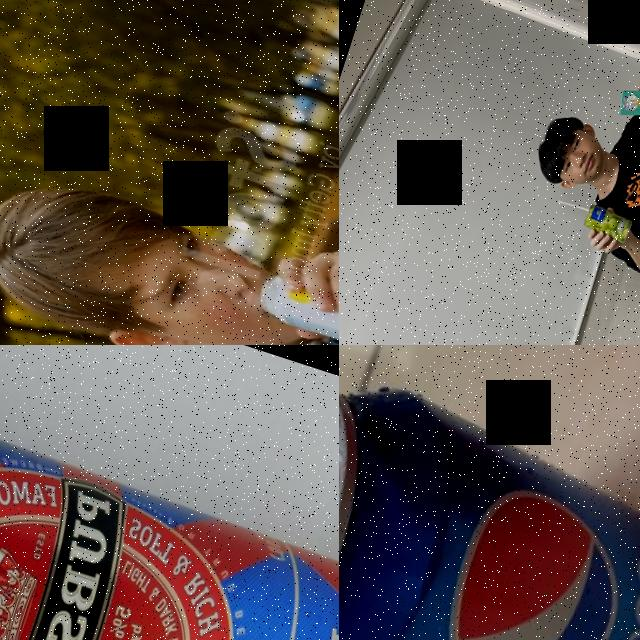can: (339, 345, 640, 640), (0, 385, 339, 640), (254, 261, 339, 345), (580, 201, 634, 245)
